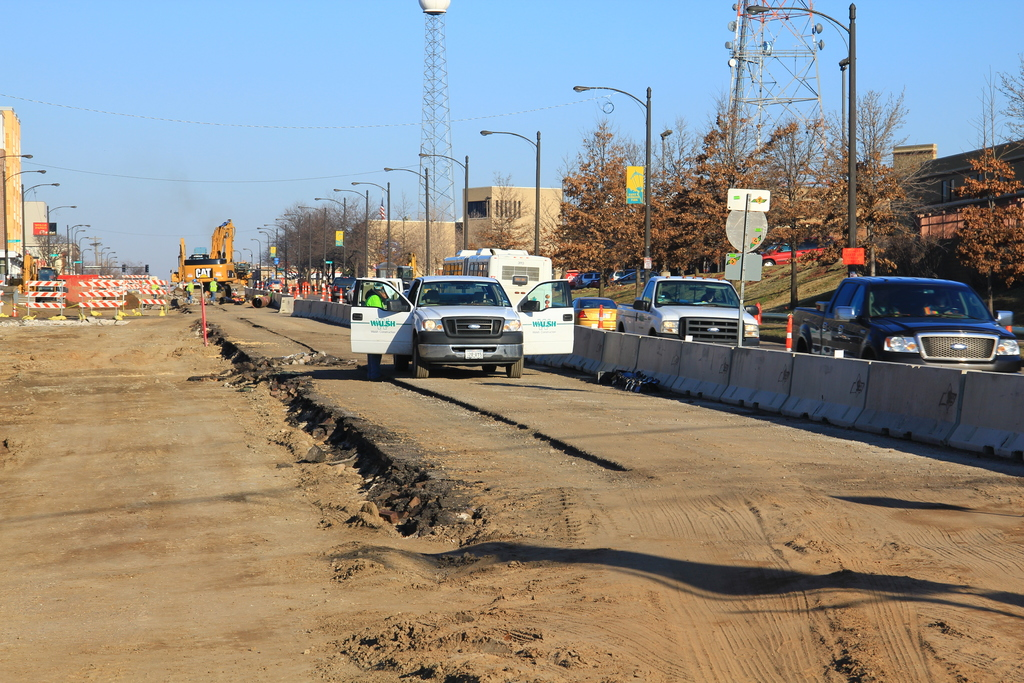Car: (573, 297, 616, 330), (328, 275, 355, 297), (268, 279, 280, 291)
